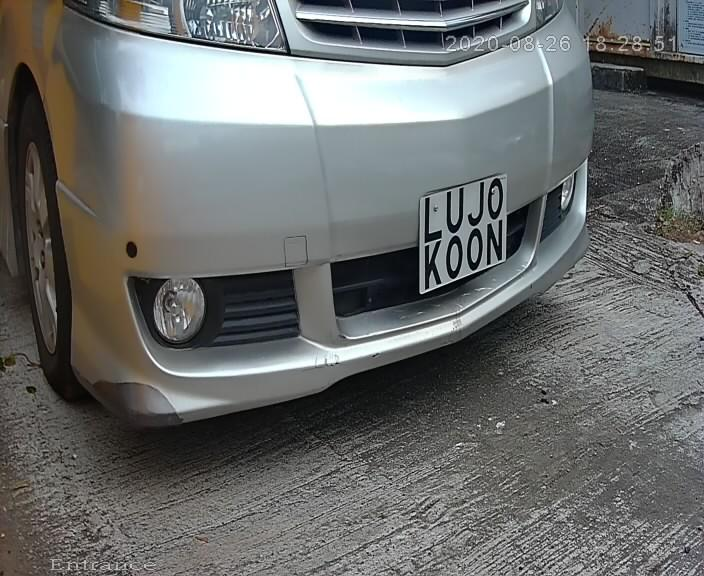License Plate: (409, 160, 522, 312)
